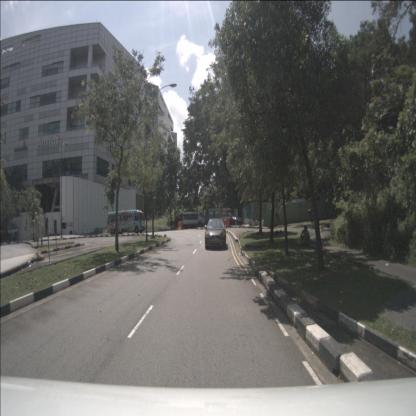human-pedestrian-adult: (301, 227, 311, 245), (300, 225, 309, 242)
movable_object-barrier: (220, 218, 230, 228), (177, 221, 183, 230)
vehicle-bus-rigid: (107, 209, 145, 235)
vehicle-car: (205, 218, 226, 249), (218, 212, 242, 226)
vehicle-motorcycle: (308, 207, 320, 223)
vehicle-truck: (180, 211, 205, 229)
